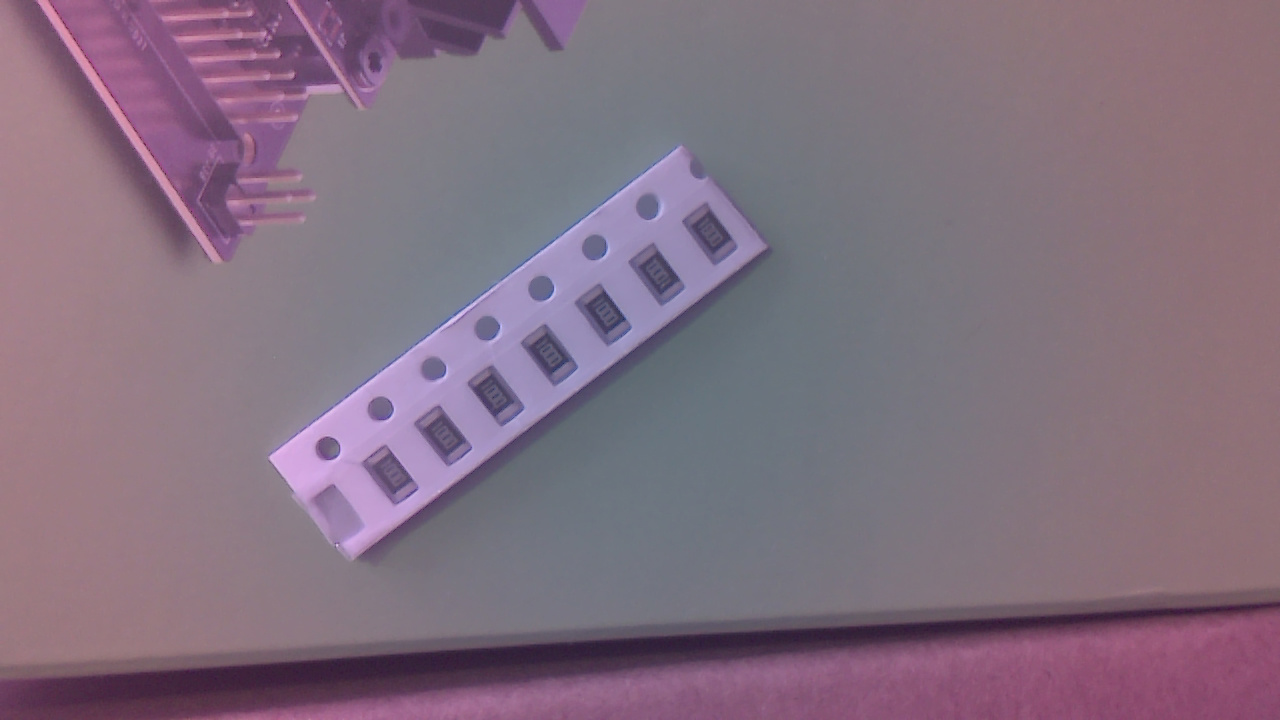Resistor: (417, 410, 478, 474), (365, 448, 425, 513), (527, 329, 587, 394), (685, 206, 745, 270), (633, 245, 690, 311), (581, 288, 639, 352), (473, 370, 529, 433)
